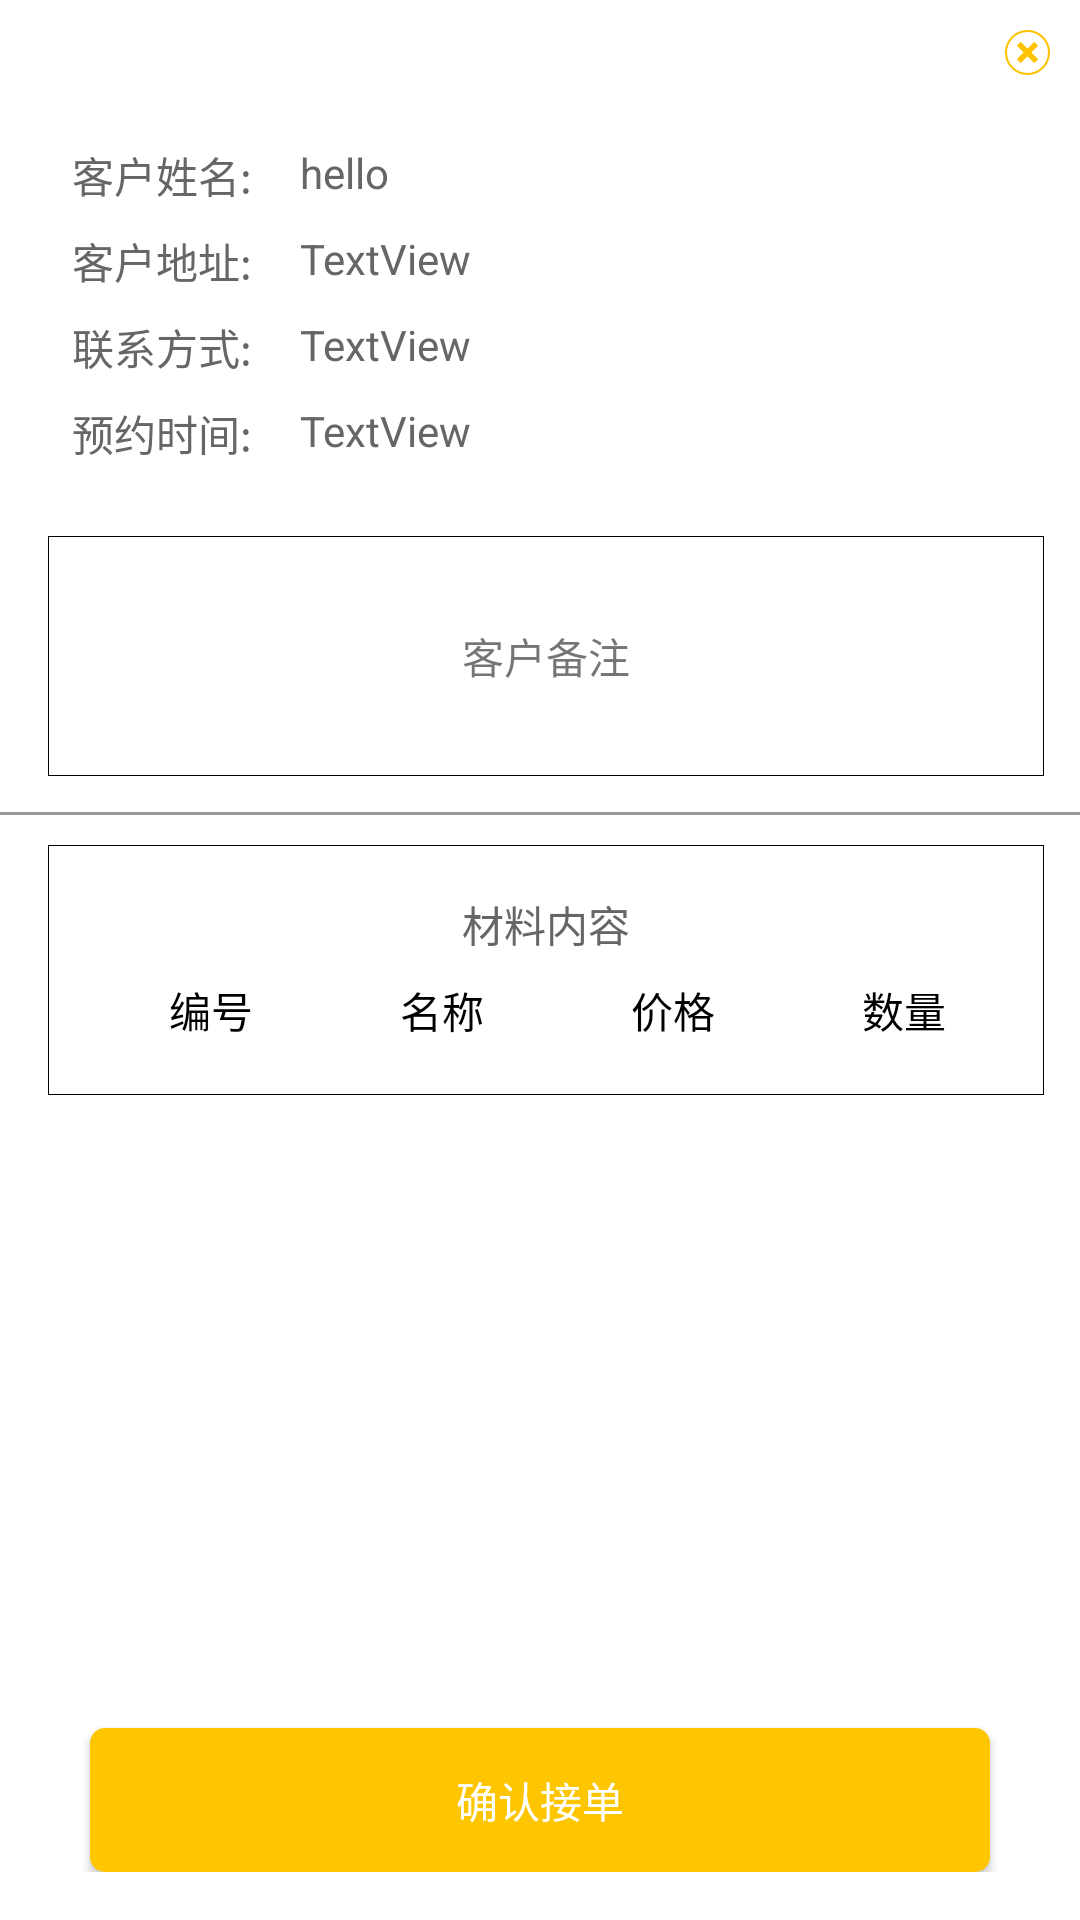

Icon click points for this 1080*1920 phone screenshot, format (x=x, y=y):
关闭: (x=1027, y=52)
